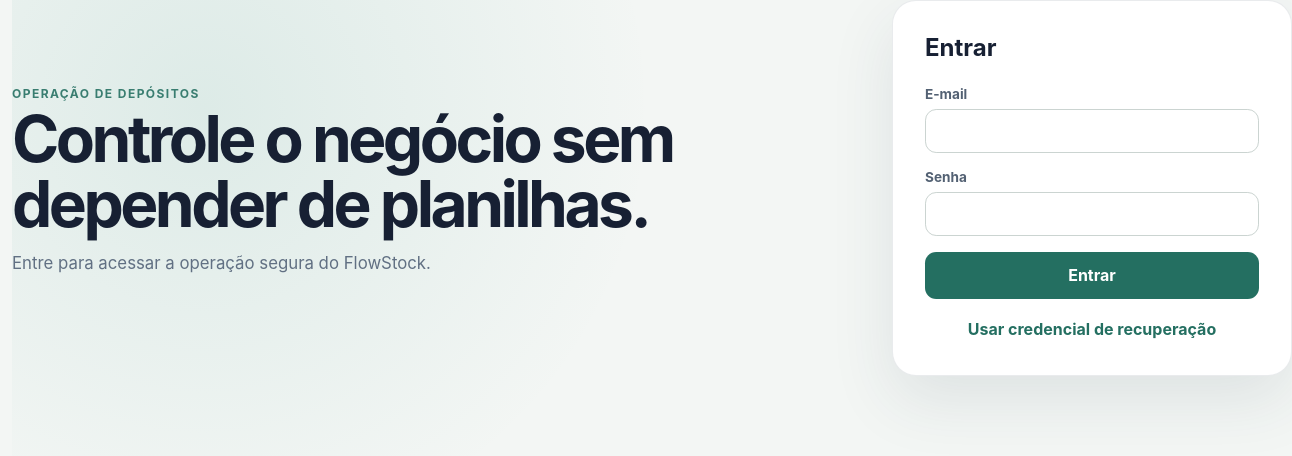
LoginPage › shows a safe error when authentication fails
Type "admin@example.com" into the field labelled "E-mail".
click(1092, 131); type("admin@example.com")  # box [925,109,1259,153]
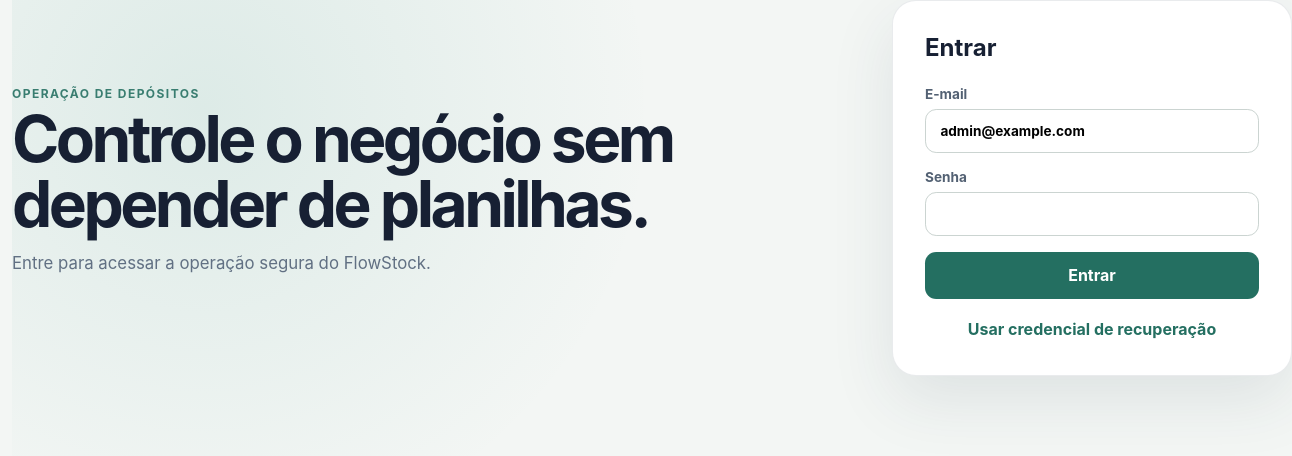
Type "wrong" into the password field labelled "Senha".
click(1092, 214); type("wrong")  # box [925,192,1259,236]
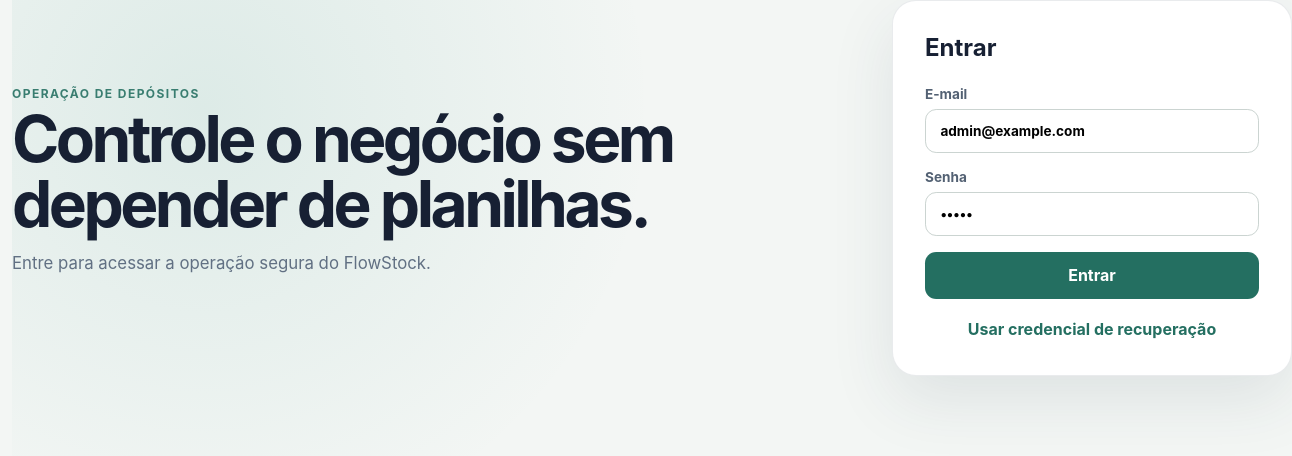
Submit the form "Entrar", box [892,0,1291,376]
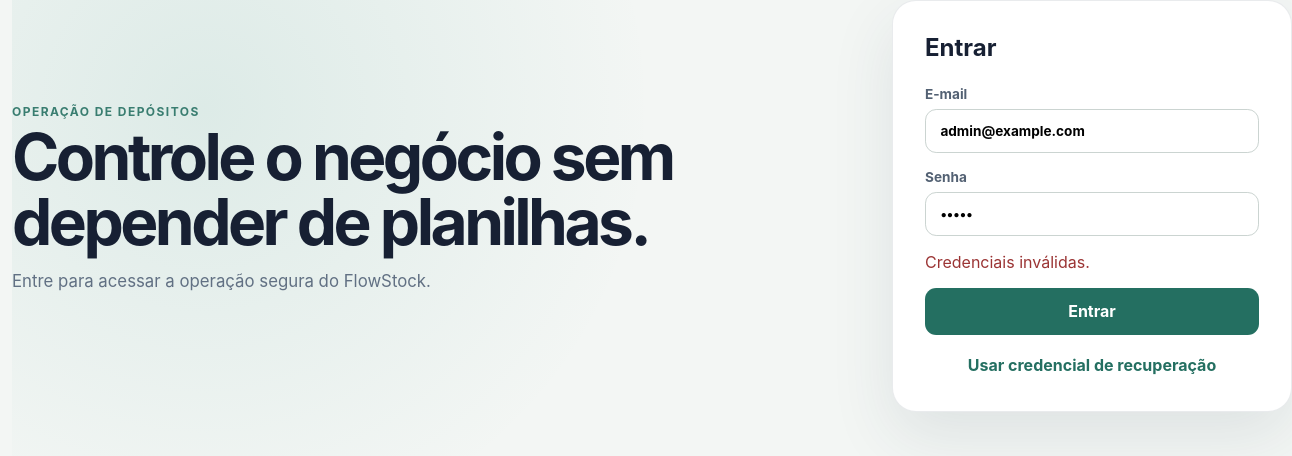
Check: the message reads "Credenciais inválidas.", box [925,252,1090,272]
